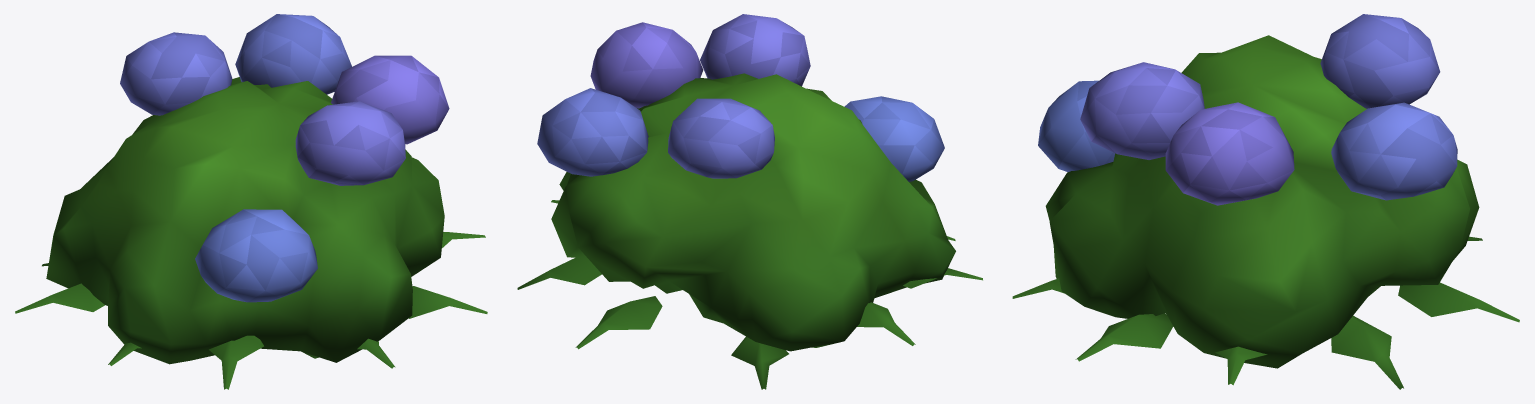
File: hydrangea.glb
3 views of the same model, side by side, from view 1: azimuth 30°, elevation 25°; view 2: azimuth 150°, elevation 25°; view 3: azimuth 270°, elevation 25° (orthographic). The views are drawn at different scales.
Parts seen in each view (by area): view 1: Hydrangea Leaves, Hydrangea Hydrangea; view 2: Hydrangea Leaves, Hydrangea Hydrangea; view 3: Hydrangea Leaves, Hydrangea Hydrangea.
Part boxes in pixels (x1=…): Hydrangea Leaves: x1=15, y1=77, x2=487, y2=389; Hydrangea Hydrangea: x1=120, y1=14, x2=449, y2=302; Hydrangea Leaves: x1=517, y1=73, x2=982, y2=389; Hydrangea Hydrangea: x1=537, y1=14, x2=944, y2=181; Hydrangea Leaves: x1=1012, y1=35, x2=1519, y2=389; Hydrangea Hydrangea: x1=1038, y1=14, x2=1457, y2=205.
Bounding box in the file's own units: 1.78 × 0.9677 × 1.66.
